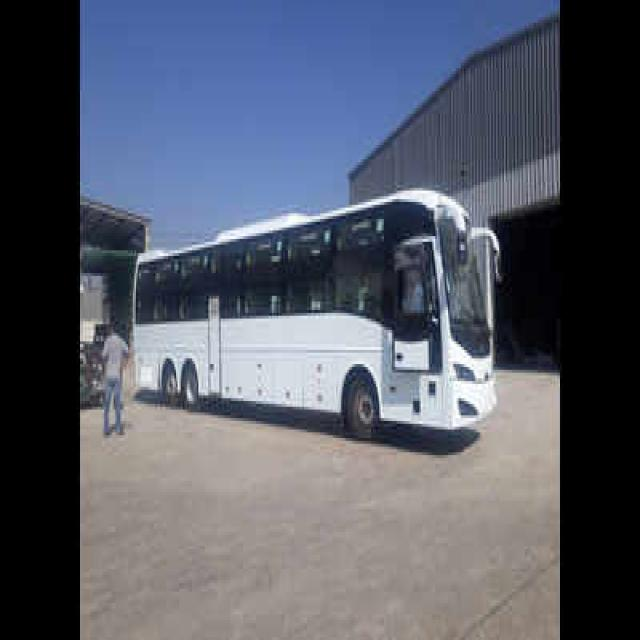bus: (135, 189, 499, 434)
